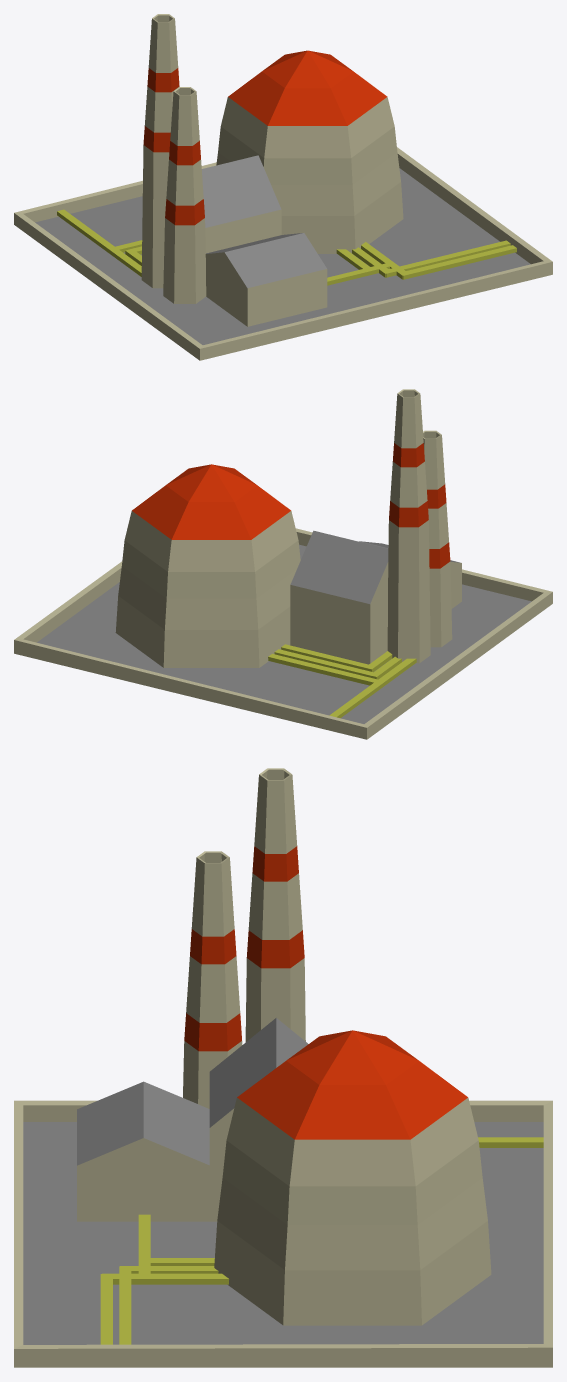
Rendered from Thermal power station.fbx.
3 views of the same model, one above another, from view 1: azimuth 30°, elevation 25°; view 2: azimuth 150°, elevation 25°; view 3: azimuth 270°, elevation 25° (orthographic). The views are drawn at different scales.
Parts seen in each view (by area): view 1: Nuke buildings.001, Pipes; view 2: Nuke buildings.001, Pipes; view 3: Nuke buildings.001, Pipes.
Boxes of the visible parts, x1=… form: Nuke buildings.001: x1=14, y1=14, x2=552, y2=360; Pipes: x1=57, y1=209, x2=516, y2=285; Nuke buildings.001: x1=14, y1=389, x2=552, y2=739; Pipes: x1=268, y1=644, x2=416, y2=718; Nuke buildings.001: x1=14, y1=768, x2=552, y2=1367; Pipes: x1=100, y1=1137, x2=543, y2=1344.
Bounding box in the file's own units: 885 × 631 × 808.
